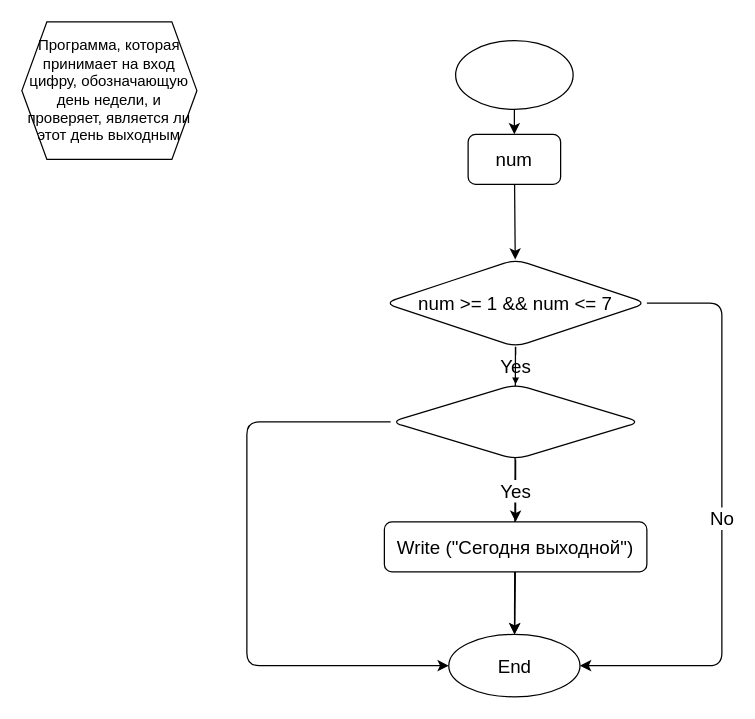
The diagram is 755 pixels wide and 719 high, and some of its shapes have lost their labels. The box of each missing label's shape, as (x1, y1, x2, y2) in pixels:
num = 6 || num = 7: (389, 383, 641, 459)
Start: (454, 39, 573, 109)
